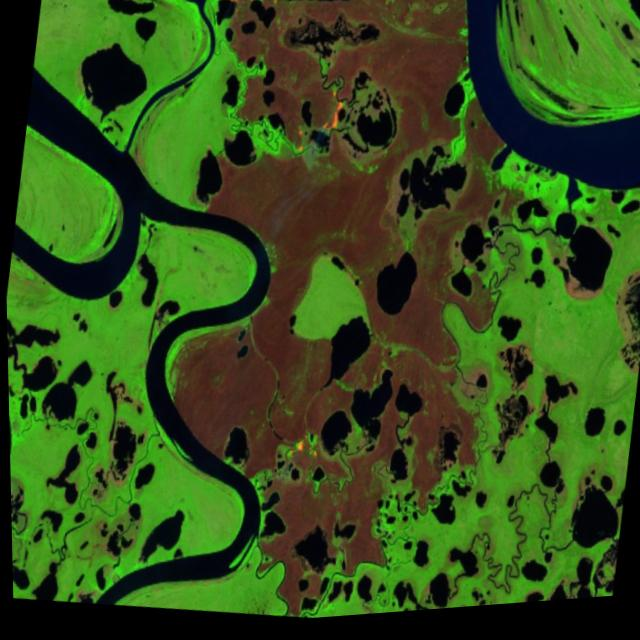fire: (290, 85, 350, 170), (282, 437, 321, 474), (228, 0, 282, 15)
